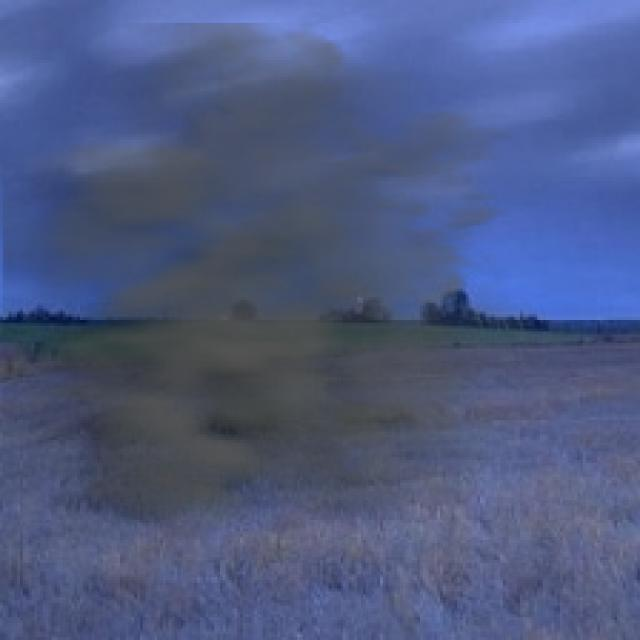smoke: (3, 23, 566, 563)
